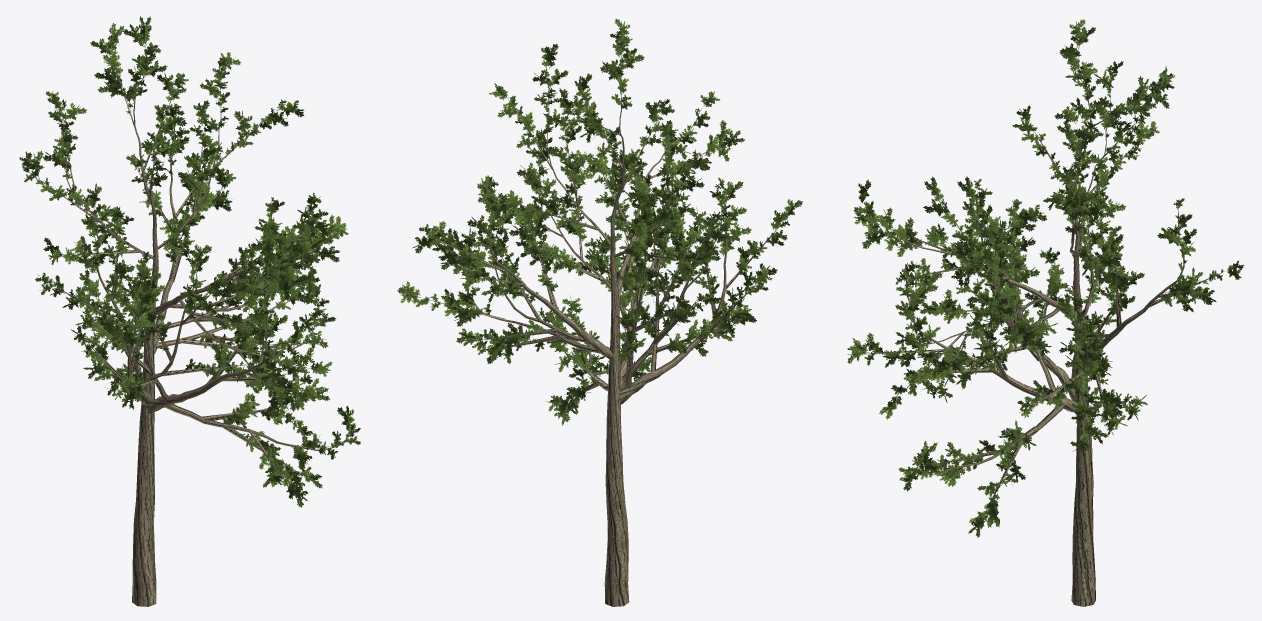
Rendered from oak_small_03.glb.
The picture shows the model from 3 angles, left to right: view 1: azimuth 30°, elevation 25°; view 2: azimuth 150°, elevation 25°; view 3: azimuth 270°, elevation 25°; orthographic projection.
Visible parts, largest first — view 1: Tree; view 2: Tree; view 3: Tree.
Boxes of the visible parts, <box> form: Tree: <box>19,16,360,606</box>; Tree: <box>397,18,802,606</box>; Tree: <box>847,19,1244,606</box>.
Size of the model in its own units: 28.71 by 50.92 by 32.69.
Materials: 2 (2 with a texture image).
